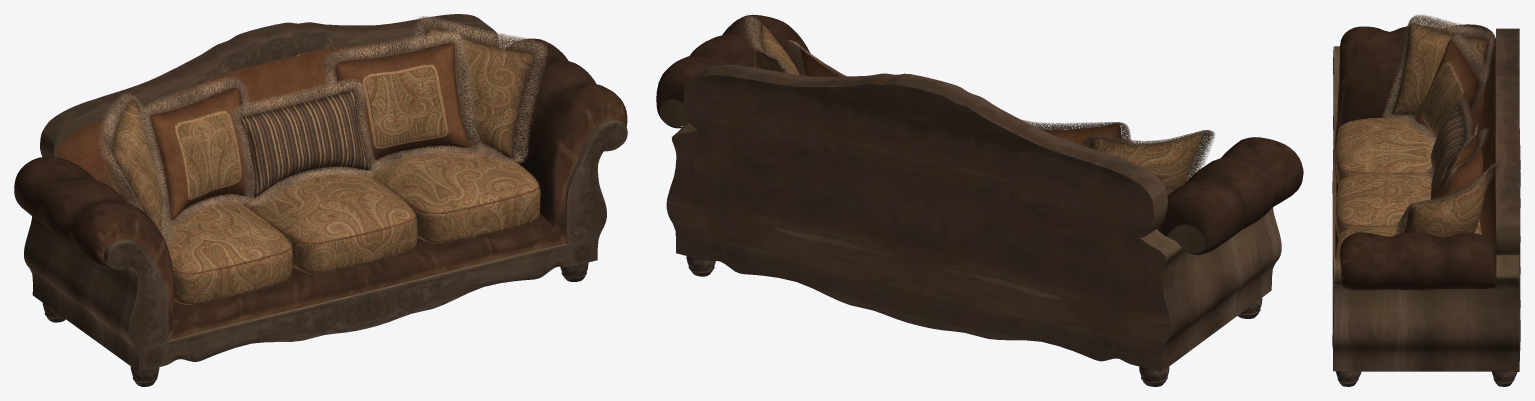
File: leather-sofa.glb
The picture shows the model from 3 angles, left to right: view 1: azimuth 30°, elevation 25°; view 2: azimuth 150°, elevation 25°; view 3: azimuth 270°, elevation 25°; orthographic projection. The views are drawn at different scales.
Visible parts, largest first — view 1: Frame, Paisley, Fringe, Brown, Stripes, Frame_Fabric; view 2: Frame, Paisley, Fringe, Brown; view 3: Frame, Paisley, Fringe, Brown, Frame_Fabric, Stripes.
Part boxes in pixels (left/top/right/bottom): Frame: left=14, top=14, right=627, bottom=386; Paisley: left=107, top=27, right=540, bottom=304; Fringe: left=98, top=16, right=547, bottom=245; Brown: left=150, top=42, right=539, bottom=274; Stripes: left=174, top=64, right=448, bottom=199; Frame_Fabric: left=57, top=34, right=494, bottom=189; Frame: left=656, top=14, right=1303, bottom=386; Paisley: left=754, top=23, right=1204, bottom=194; Fringe: left=743, top=14, right=1214, bottom=181; Brown: left=800, top=46, right=1121, bottom=147; Frame: left=1332, top=24, right=1520, bottom=386; Paisley: left=1335, top=23, right=1487, bottom=257; Fringe: left=1382, top=14, right=1499, bottom=235; Brown: left=1337, top=40, right=1483, bottom=257; Frame_Fabric: left=1477, top=39, right=1495, bottom=245; Stripes: left=1422, top=61, right=1472, bottom=198.
Size of the model in its own units: 2.73 by 1.12 by 0.9231.
6 materials, 6 textured.
